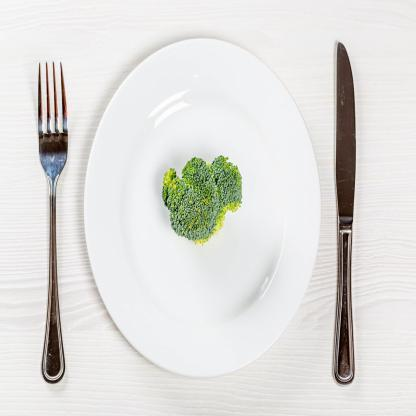broccoli: (160, 152, 243, 242)
